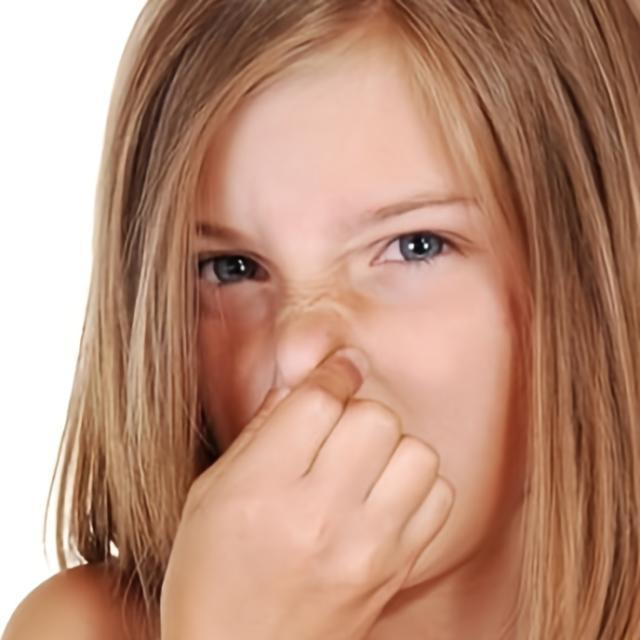disgust: (190, 16, 526, 598)
